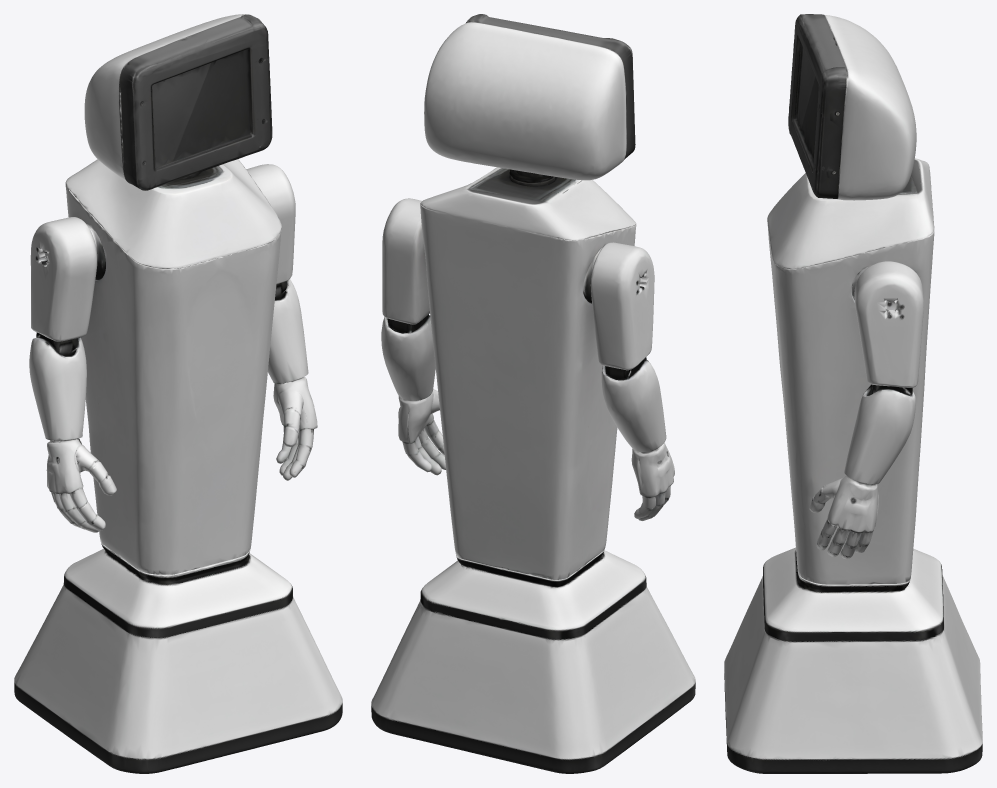
The model's file is humanoid+robot+3d+model_Low_poly.glb.
3 renders of one model, left to right at view 1: azimuth 30°, elevation 25°; view 2: azimuth 150°, elevation 25°; view 3: azimuth 270°, elevation 25°, orthographic.
Parts seen in each view (by area): view 1: tripo_node_feef4648-0803-4423-ba58-2cc16dd87f3a; view 2: tripo_node_feef4648-0803-4423-ba58-2cc16dd87f3a; view 3: tripo_node_feef4648-0803-4423-ba58-2cc16dd87f3a.
Part boxes in pixels (left/top/right/bottom): tripo_node_feef4648-0803-4423-ba58-2cc16dd87f3a: left=14, top=14, right=342, bottom=773; tripo_node_feef4648-0803-4423-ba58-2cc16dd87f3a: left=371, top=14, right=695, bottom=773; tripo_node_feef4648-0803-4423-ba58-2cc16dd87f3a: left=724, top=14, right=982, bottom=773.
Bounding box in the file's own units: 0.4007 × 0.9827 × 0.3354.
1 material, 1 textured.
